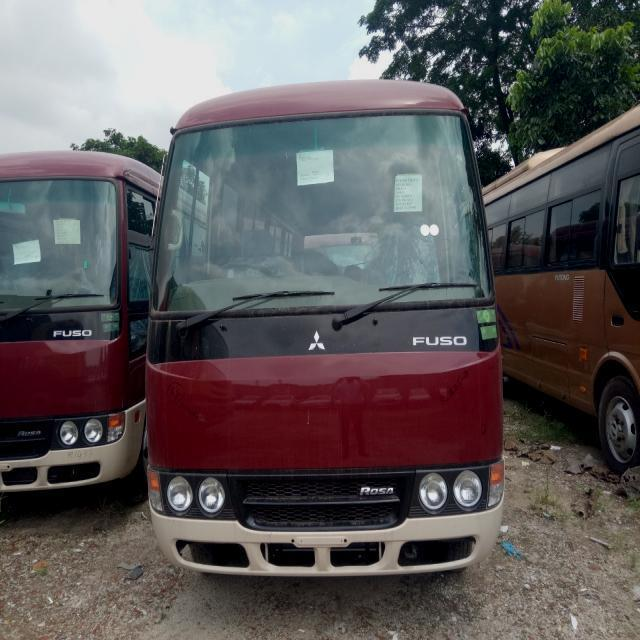Bus: (146, 62, 511, 592), (0, 127, 147, 534), (475, 97, 640, 457)
